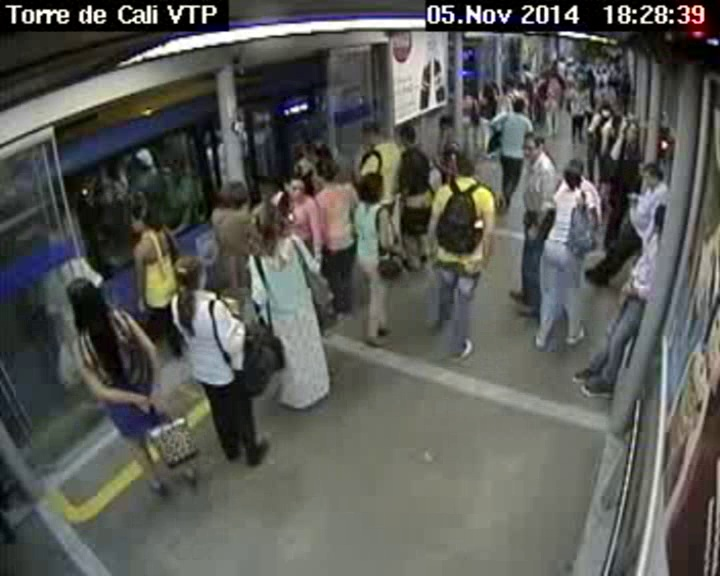person: (65, 275, 104, 326), (174, 254, 209, 299), (253, 200, 284, 235), (217, 179, 246, 212), (356, 169, 384, 203), (451, 152, 486, 178), (312, 156, 340, 185), (518, 130, 542, 162), (126, 206, 153, 234), (561, 160, 584, 192), (436, 113, 459, 142), (255, 176, 280, 202), (284, 174, 306, 201), (653, 200, 669, 234), (361, 120, 383, 143), (396, 123, 417, 147), (644, 165, 663, 190), (620, 119, 638, 142), (598, 99, 612, 117), (482, 81, 496, 98), (512, 98, 525, 112), (613, 103, 624, 119), (461, 85, 474, 98), (503, 77, 513, 89), (574, 80, 585, 90), (521, 63, 532, 72), (549, 68, 557, 78)
